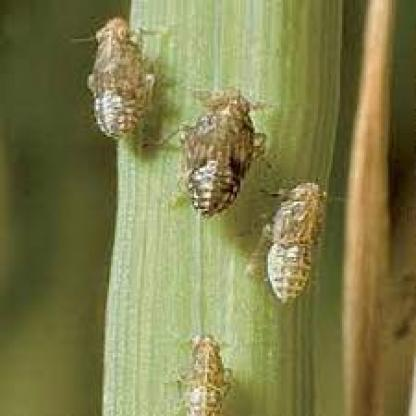brown-planthopper: (183, 91, 252, 220), (82, 12, 146, 140), (264, 178, 326, 308), (177, 332, 231, 416)
